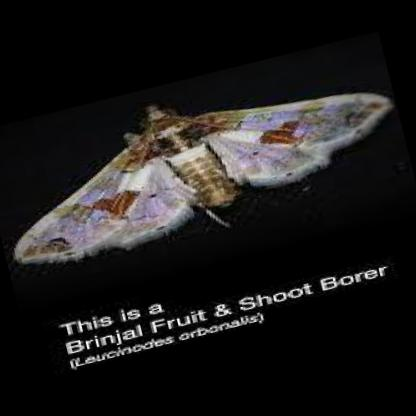leucinodes: (9, 95, 396, 265)
